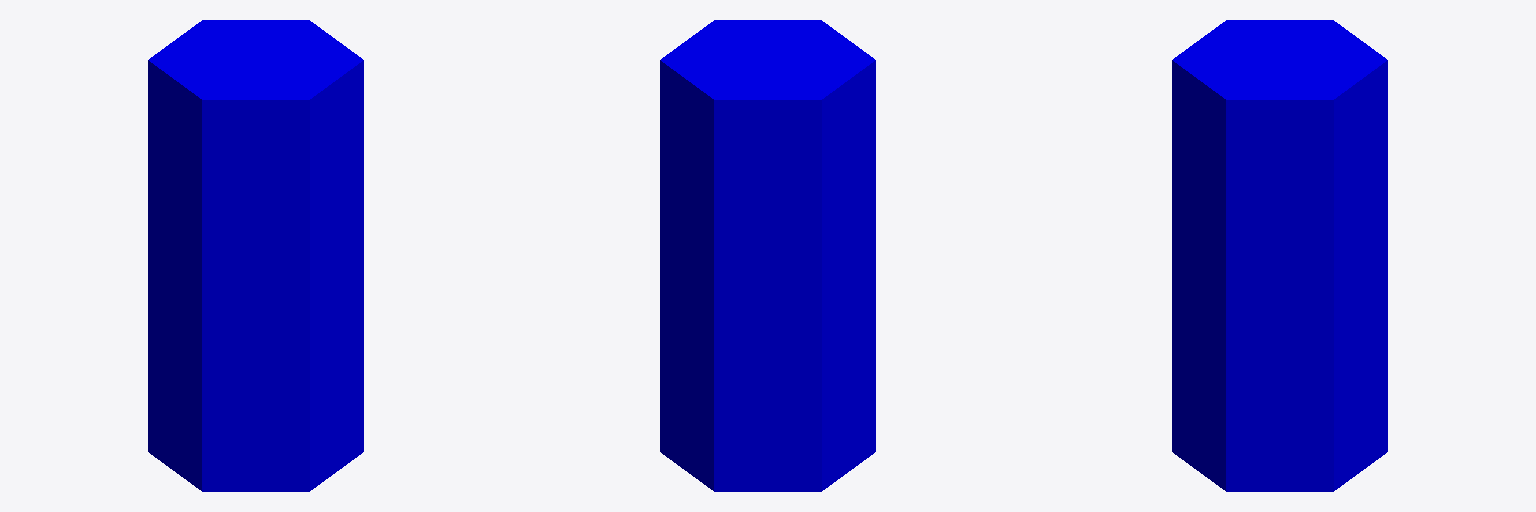
robot.urdf — building:
<?xml version="1.0" ?>

<robot name="building">

  <link name="base_link"> 

    <inertial>
      <origin rpy="0 0 0" xyz="0 0 0"/>
      <mass value="0.3"/>
      <inertia ixx="0" ixy="0.0" ixz="0.0" iyy="0" iyz="0.0" izz="0"/>
    </inertial>

    <visual>
      <origin rpy="0 0 0" xyz="0 0 0"/>
      <geometry>
        <mesh filename="./hexa_50_200.obj" scale="1. 1. 1."/>
      </geometry> 
      <material name="blue">
        <color rgba="0. 0. 1. 0.7"/>
      </material> 
    </visual>

    <collision>
      <origin rpy="0 0 0" xyz="0 0 0"/>
      <geometry>
        <mesh filename="./hexa_50_200.obj" scale="1. 1. 1."/>
      </geometry>
    </collision>  

  </link>

</robot>

--- Render facts (derived) ---
Views: 3 orthographic renders of the robot side by side, from view 1: azimuth 30°, elevation 25°; view 2: azimuth 150°, elevation 25°; view 3: azimuth 270°, elevation 25°.
Model building with 1 links and 0 joints (none), rooted at base_link, posed all joints at 0.
Links seen in each view (by area): view 1: base_link; view 2: base_link; view 3: base_link.
Link boxes in pixels (<box>): base_link: <box>148,20,363,491</box>; base_link: <box>660,20,875,491</box>; base_link: <box>1172,20,1387,491</box>.
Size in the robot's own frame: 0.866 by 1 by 2 metres.
1 mesh visuals loaded from 1 distinct referenced files (1 OBJ).